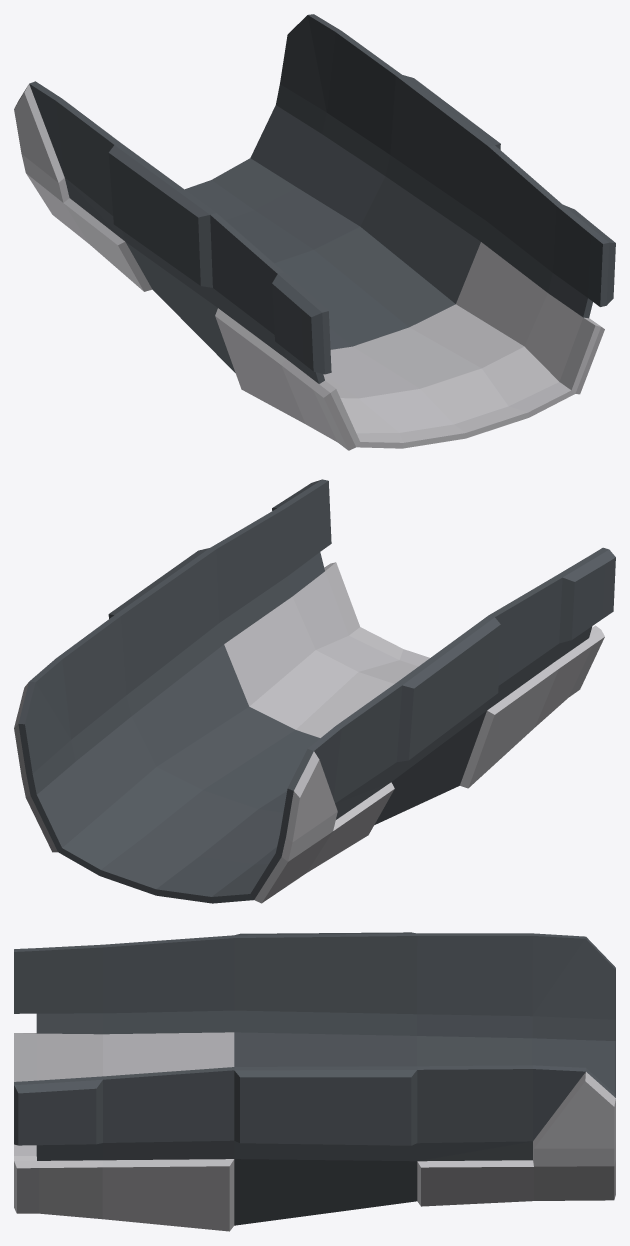
The model's file is Dropship_04_Bottom_Frame.fbx.
3 views of the same model, one above another, from view 1: azimuth 30°, elevation 25°; view 2: azimuth 150°, elevation 25°; view 3: azimuth 270°, elevation 25° (orthographic). The views are drawn at different scales.
Visible parts, largest first — view 1: Dropship_04_Bottom_Frame; view 2: Dropship_04_Bottom_Frame; view 3: Dropship_04_Bottom_Frame.
Boxes of the visible parts, <box> form: Dropship_04_Bottom_Frame: <box>14,14,615,450</box>; Dropship_04_Bottom_Frame: <box>14,479,615,903</box>; Dropship_04_Bottom_Frame: <box>14,932,615,1231</box>.
Size of the model in its own units: 421 by 260 by 739.
Materials: 1 (1 with a texture image).
